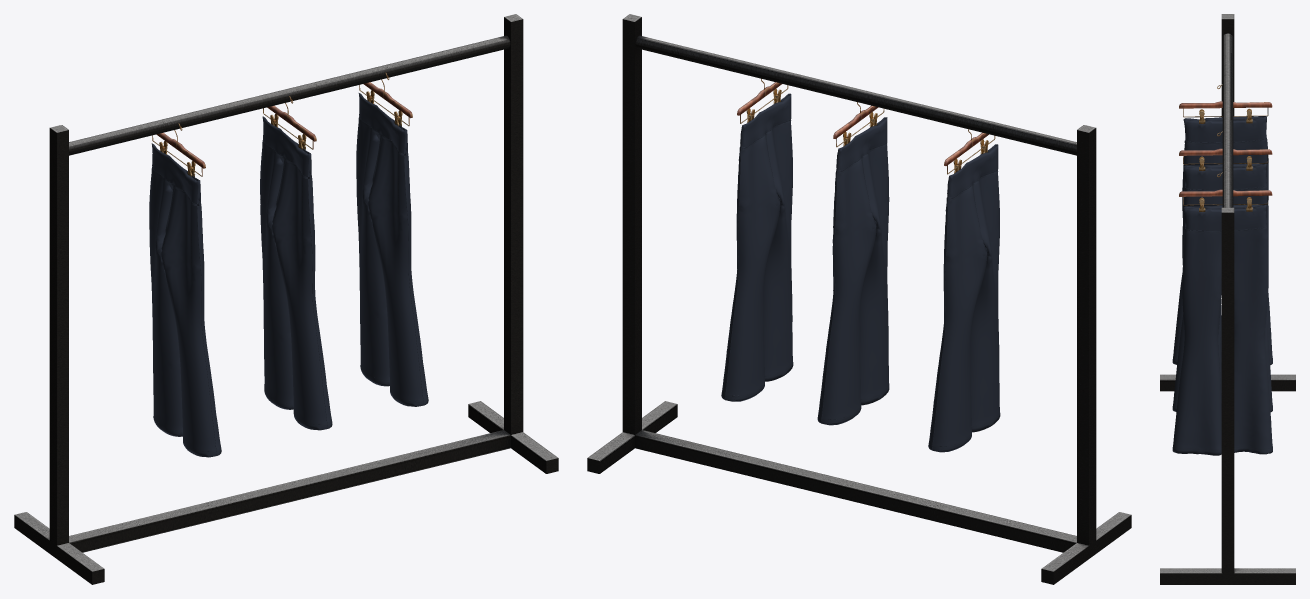
The model's file is Rack_Hanger6_1.7x1.5x0.5.glb.
3 renders of one model, left to right at view 1: azimuth 30°, elevation 25°; view 2: azimuth 150°, elevation 25°; view 3: azimuth 270°, elevation 25°, orthographic. The views are drawn at different scales.
Parts seen in each view (by area): view 1: Hanger_Baked.002; view 2: Hanger_Baked.002; view 3: Hanger_Baked.002.
Boxes of the visible parts, left/top/right/bottom form: Hanger_Baked.002: left=14, top=14, right=558, bottom=584; Hanger_Baked.002: left=587, top=14, right=1131, bottom=584; Hanger_Baked.002: left=1160, top=14, right=1295, bottom=584.
Size of the model in its own units: 1.67 by 1.45 by 0.4817.
Materials: 1 (1 with a texture image).
